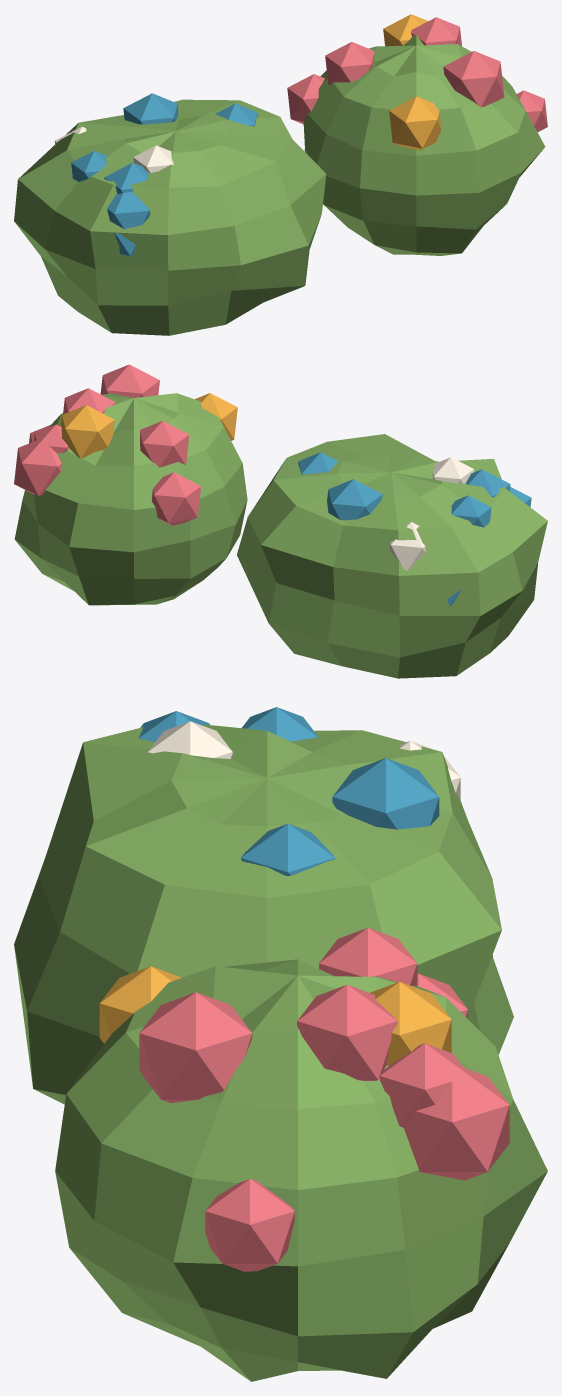
Rendered from hydrangeas.glb.
3 renders of one model, top to bottom at view 1: azimuth 30°, elevation 25°; view 2: azimuth 150°, elevation 25°; view 3: azimuth 270°, elevation 25°, orthographic. The views are drawn at different scales.
Visible parts, largest first — view 1: hydrangeas; view 2: hydrangeas; view 3: hydrangeas.
Part boxes in pixels (left/top/right/bottom): hydrangeas: left=14, top=14, right=547, bottom=335; hydrangeas: left=14, top=364, right=547, bottom=678; hydrangeas: left=14, top=707, right=547, bottom=1381.
Bounding box in the file's own units: 1.79 × 0.7046 × 0.8655.
